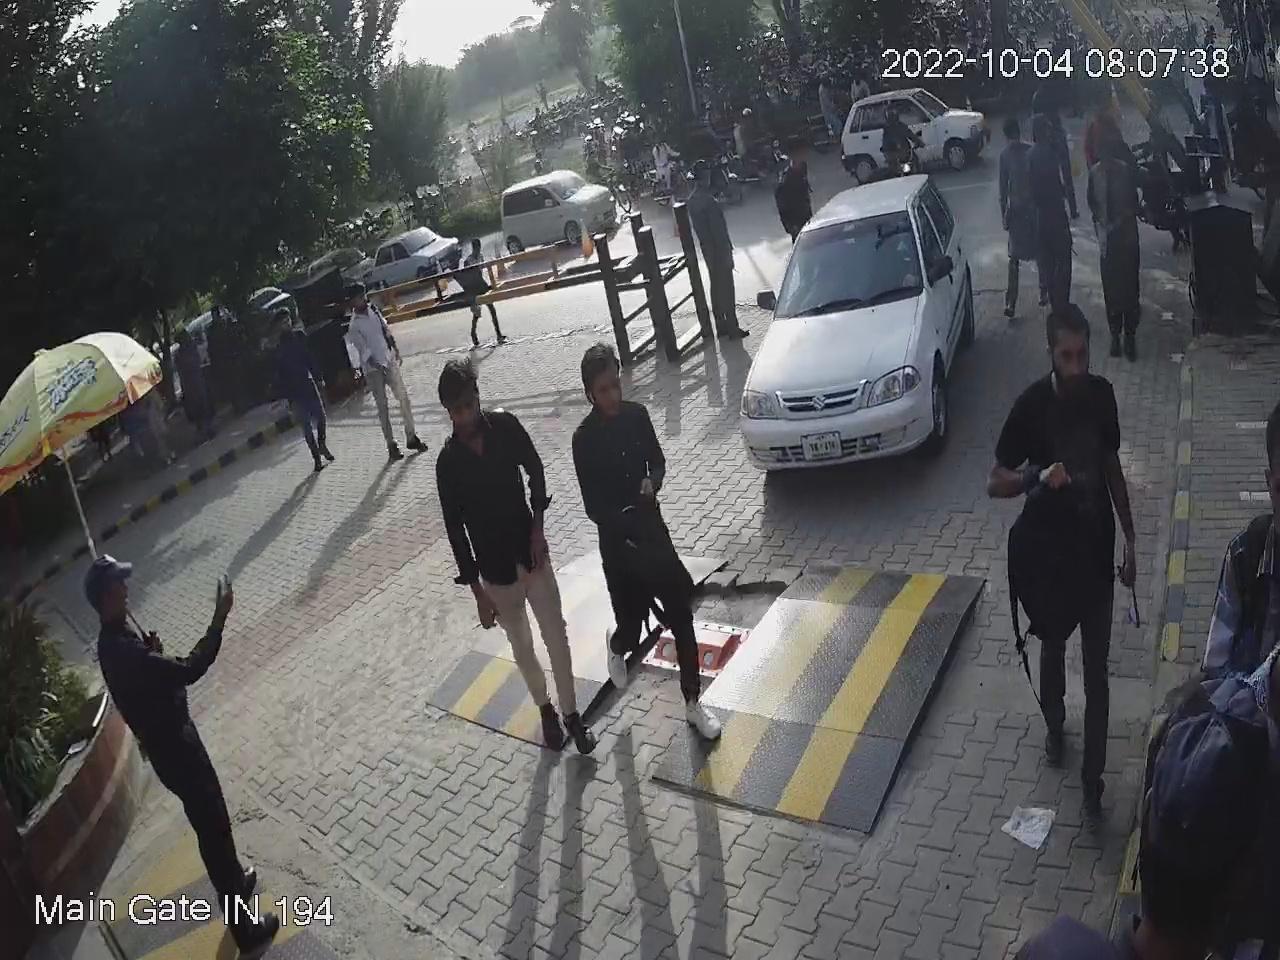windshield: (778, 210, 920, 318)
